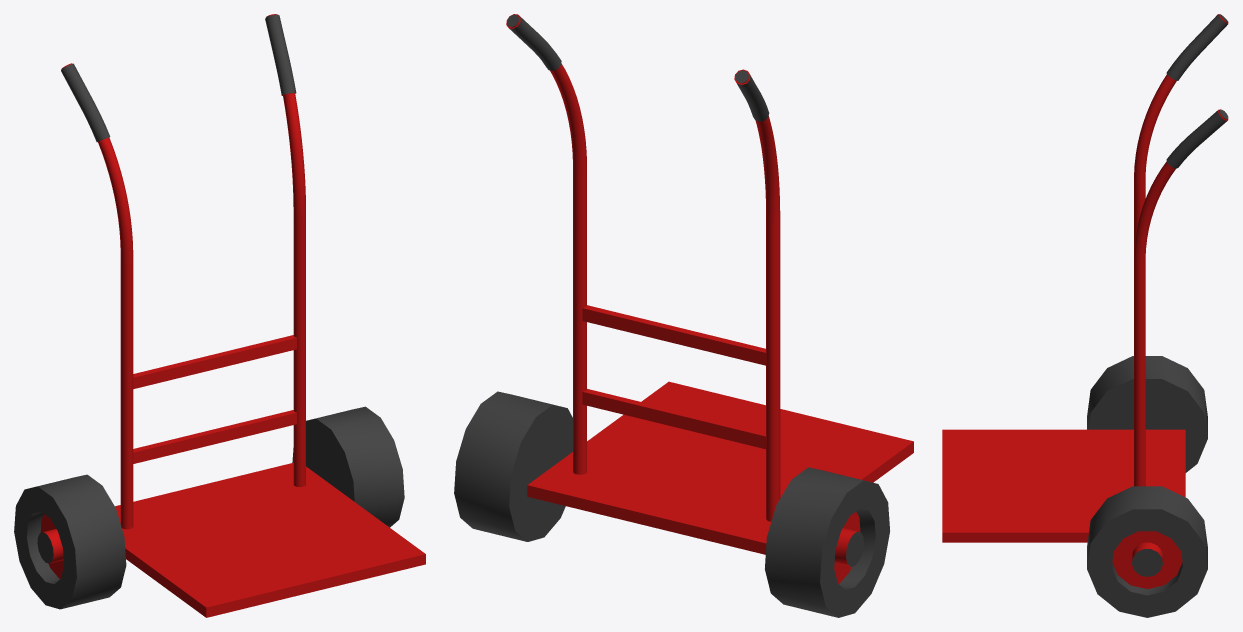
Rendered from HandCart.fbx.
3 views of the same model, side by side, from view 1: azimuth 30°, elevation 25°; view 2: azimuth 150°, elevation 25°; view 3: azimuth 270°, elevation 25° (orthographic). The views are drawn at different scales.
Visible parts, largest first — view 1: Cube, Cylinder_2, Cylinder, Cube_1, Cube_2; view 2: Cube, Cylinder_2, Cylinder, Cube_1, Cube_2; view 3: Cube, Cylinder_2, Cylinder.
Part boxes in pixels (x1,y1,x2,y2): Cube: (115,462,425,617); Cylinder_2: (14,406,404,609); Cylinder: (61,14,305,529); Cube_1: (133,410,296,463); Cube_2: (133,335,296,388); Cube: (527,381,913,554); Cylinder_2: (454,391,889,617); Cylinder: (506,14,780,521); Cube_1: (582,389,766,449); Cube_2: (582,305,766,365); Cube: (942,429,1185,542); Cylinder_2: (1087,356,1207,617); Cylinder: (1134,14,1228,486).
Size of the model in its own units: 299 by 434 by 235.
